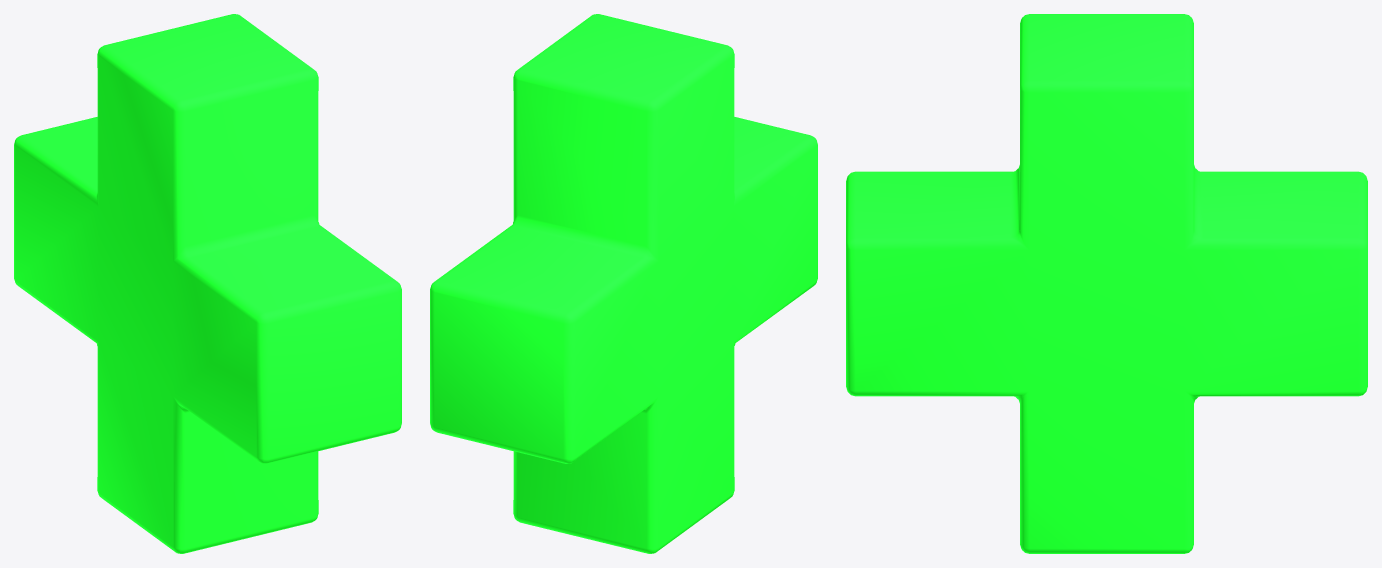
The model's file is health_pickup.fbx.
3 views of the same model, side by side, from view 1: azimuth 30°, elevation 25°; view 2: azimuth 150°, elevation 25°; view 3: azimuth 270°, elevation 25° (orthographic). The views are drawn at different scales.
Parts seen in each view (by area): view 1: Cube; view 2: Cube; view 3: Cube.
Part boxes in pixels (x1,y1,x2,y2): Cube: (14, 14, 401, 553); Cube: (430, 14, 817, 553); Cube: (846, 14, 1367, 553).
Bounding box in the file's own units: 200 × 600 × 600.
